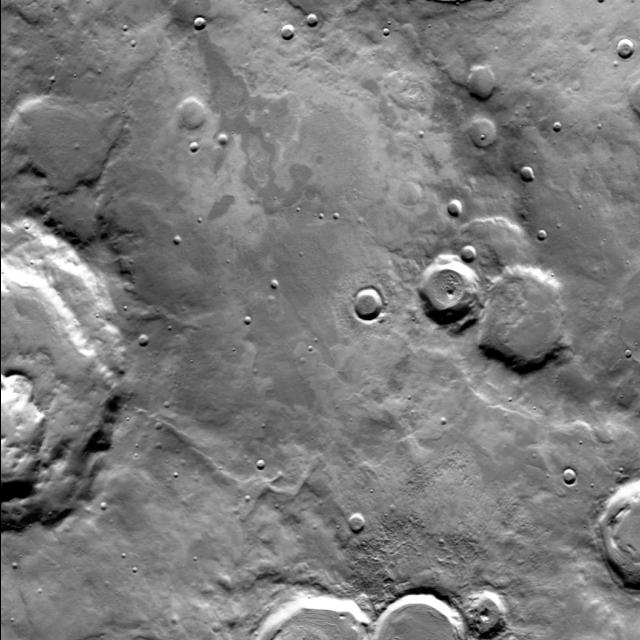crater: (0, 200, 128, 526), (476, 261, 570, 367), (445, 210, 536, 313), (15, 86, 101, 182), (588, 476, 640, 596), (247, 596, 375, 640), (376, 585, 466, 640), (420, 248, 482, 320), (464, 583, 508, 633), (2, 366, 34, 404), (468, 66, 498, 102), (176, 100, 205, 132), (354, 286, 382, 318), (469, 120, 497, 152), (399, 174, 422, 198), (617, 39, 635, 59), (349, 514, 366, 534), (461, 238, 478, 258), (446, 190, 463, 210), (282, 24, 296, 40), (520, 166, 534, 182), (308, 13, 320, 28), (194, 17, 207, 30), (564, 470, 576, 484), (136, 333, 147, 345), (218, 133, 228, 145), (188, 142, 198, 152), (255, 460, 265, 470), (538, 230, 547, 240), (172, 235, 180, 245), (242, 315, 250, 324), (269, 282, 277, 290), (625, 349, 633, 357), (440, 410, 448, 418), (383, 20, 390, 28), (98, 502, 105, 510), (554, 124, 560, 132), (154, 422, 160, 430), (340, 212, 346, 219)
